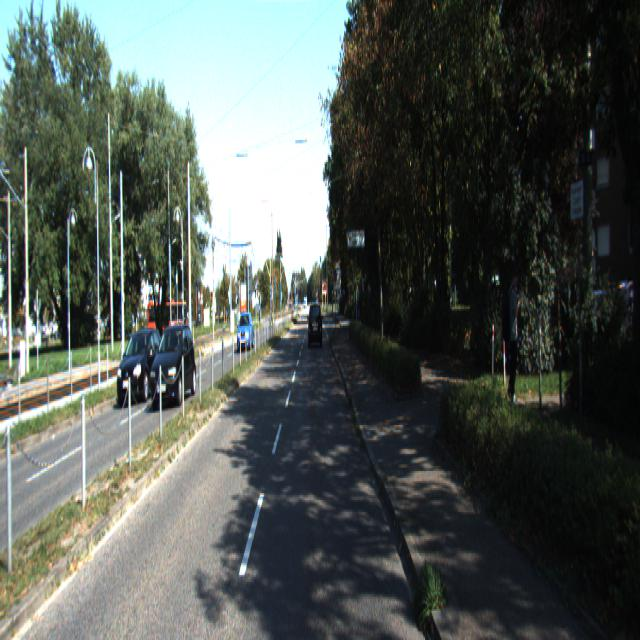Car: (151, 323, 197, 407), (118, 328, 166, 404), (237, 312, 254, 352), (309, 302, 323, 350)
